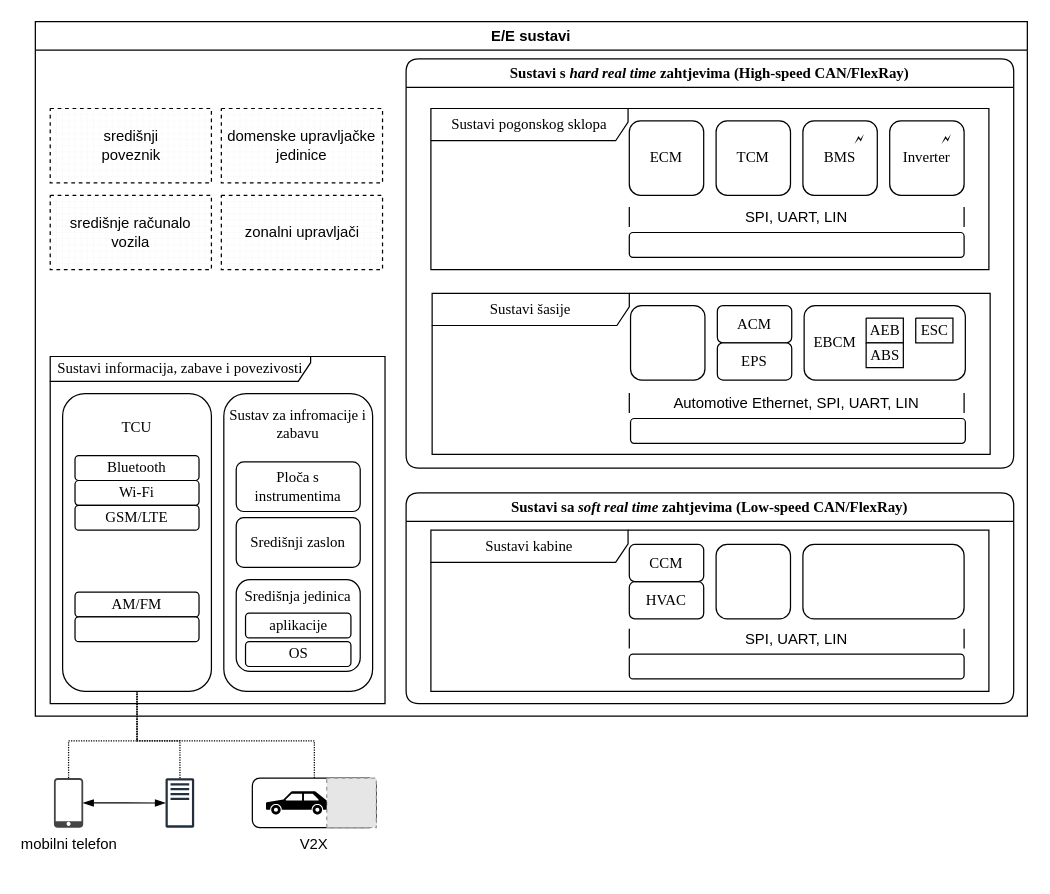
Some shapes in this 1050 by 894 pixel diagram are drawn without their labels. Grey dashed boxes stand in for pictures. Each missing label, with the centre of its shape:
"ADAS" belongs at (x=667, y=342).
"ECU-ovi ambijentalnog osvjetljenja, brisača, prozora, sigurnosnih pojaseva" belongs at (x=883, y=581).
"GPS" belongs at (x=136, y=629).
"KES" belongs at (x=752, y=581).
"lidar, radar, video, ultrazvučni senzori" belongs at (x=797, y=430).
"RCDLR, sustavi senzora i aktuatora" belongs at (x=796, y=666).
"servisi proizvođača" belongs at (x=179, y=802).
"sutavi senzora i aktuatora" belongs at (x=796, y=244).
